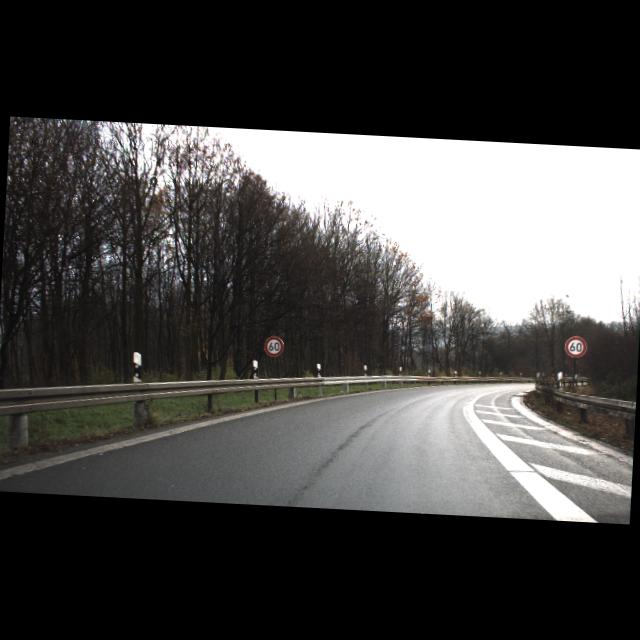prohibitory: (564, 335, 588, 358), (263, 334, 284, 356)
